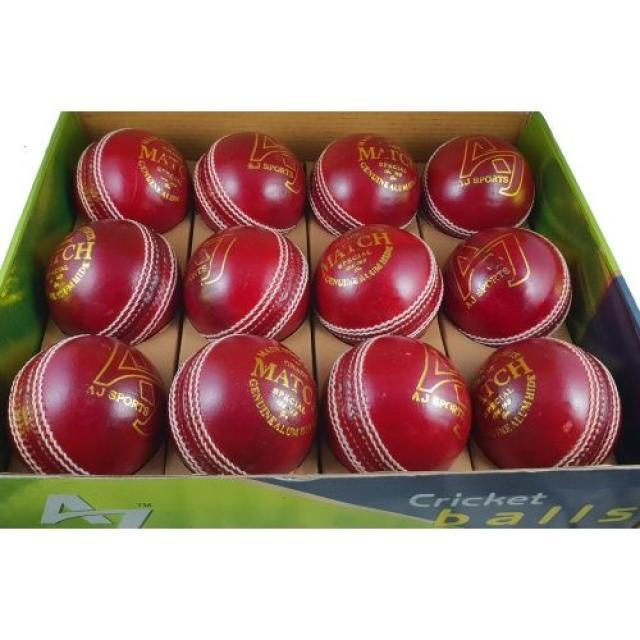cricket ball: (8, 333, 167, 476), (167, 333, 318, 476), (321, 333, 473, 475), (469, 335, 623, 470), (43, 217, 182, 343), (312, 222, 446, 346), (444, 226, 572, 348), (184, 225, 313, 343), (74, 127, 192, 232), (421, 132, 535, 238), (307, 132, 422, 236), (193, 130, 309, 232)
